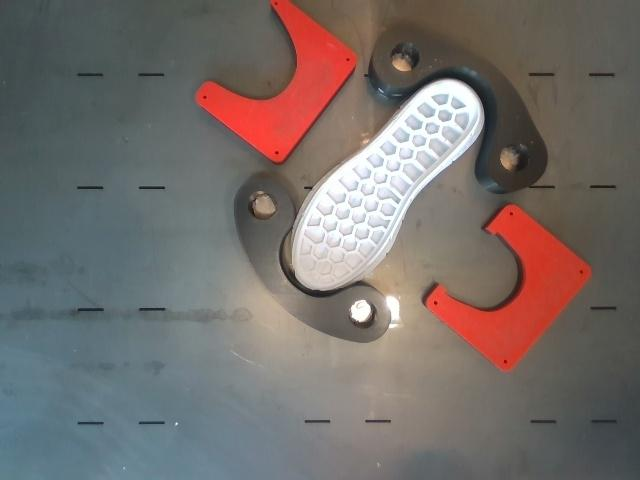shoes: (295, 83, 479, 290)
